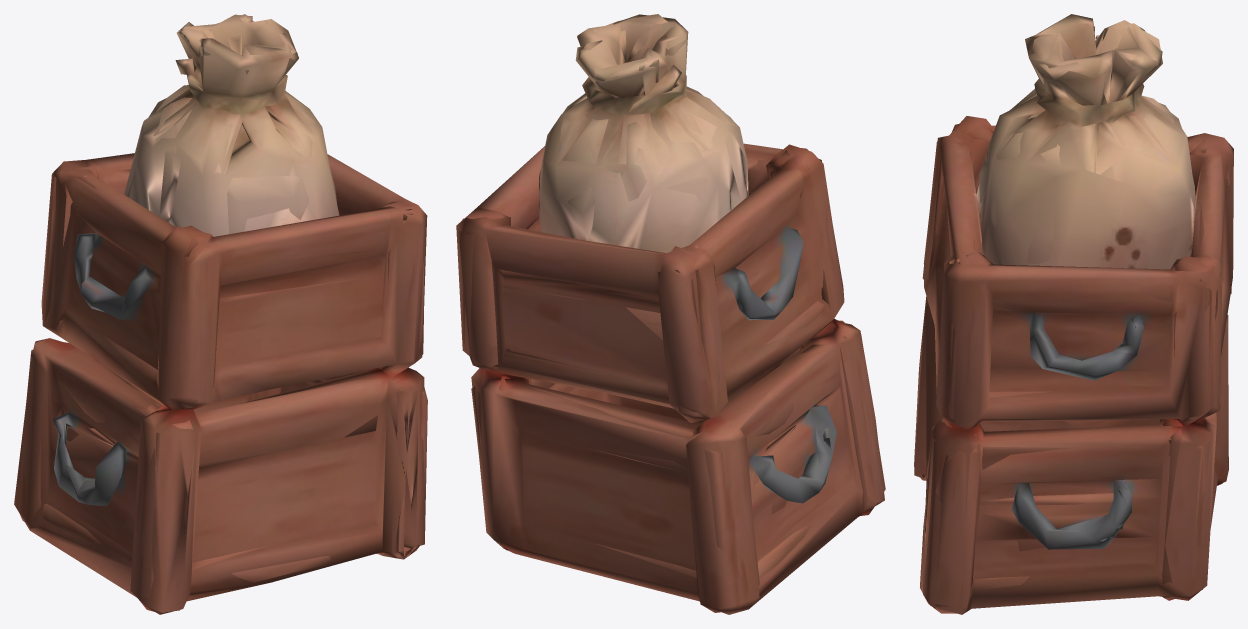
The model's file is cargo-crates.glb.
3 views of the same model, side by side, from view 1: azimuth 30°, elevation 25°; view 2: azimuth 150°, elevation 25°; view 3: azimuth 270°, elevation 25° (orthographic). The views are drawn at different scales.
Size of the model in its own units: 0.85 by 1.32 by 0.7291.
Materials: 1 (1 with a texture image).
